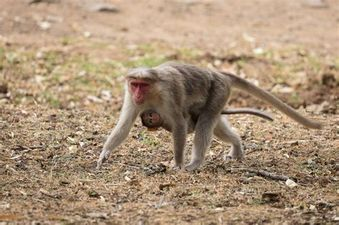monkey: (61, 59, 294, 174), (122, 103, 178, 194)
